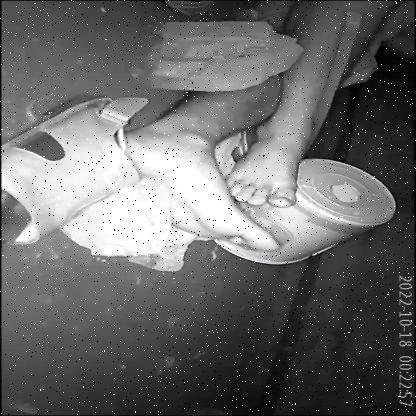leg: (205, 0, 404, 213), (107, 76, 286, 255)
